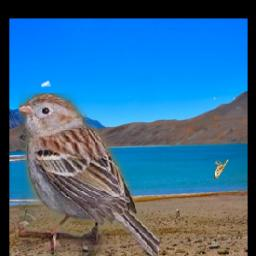Sparrow: (18, 94, 158, 256), (214, 159, 229, 178)
